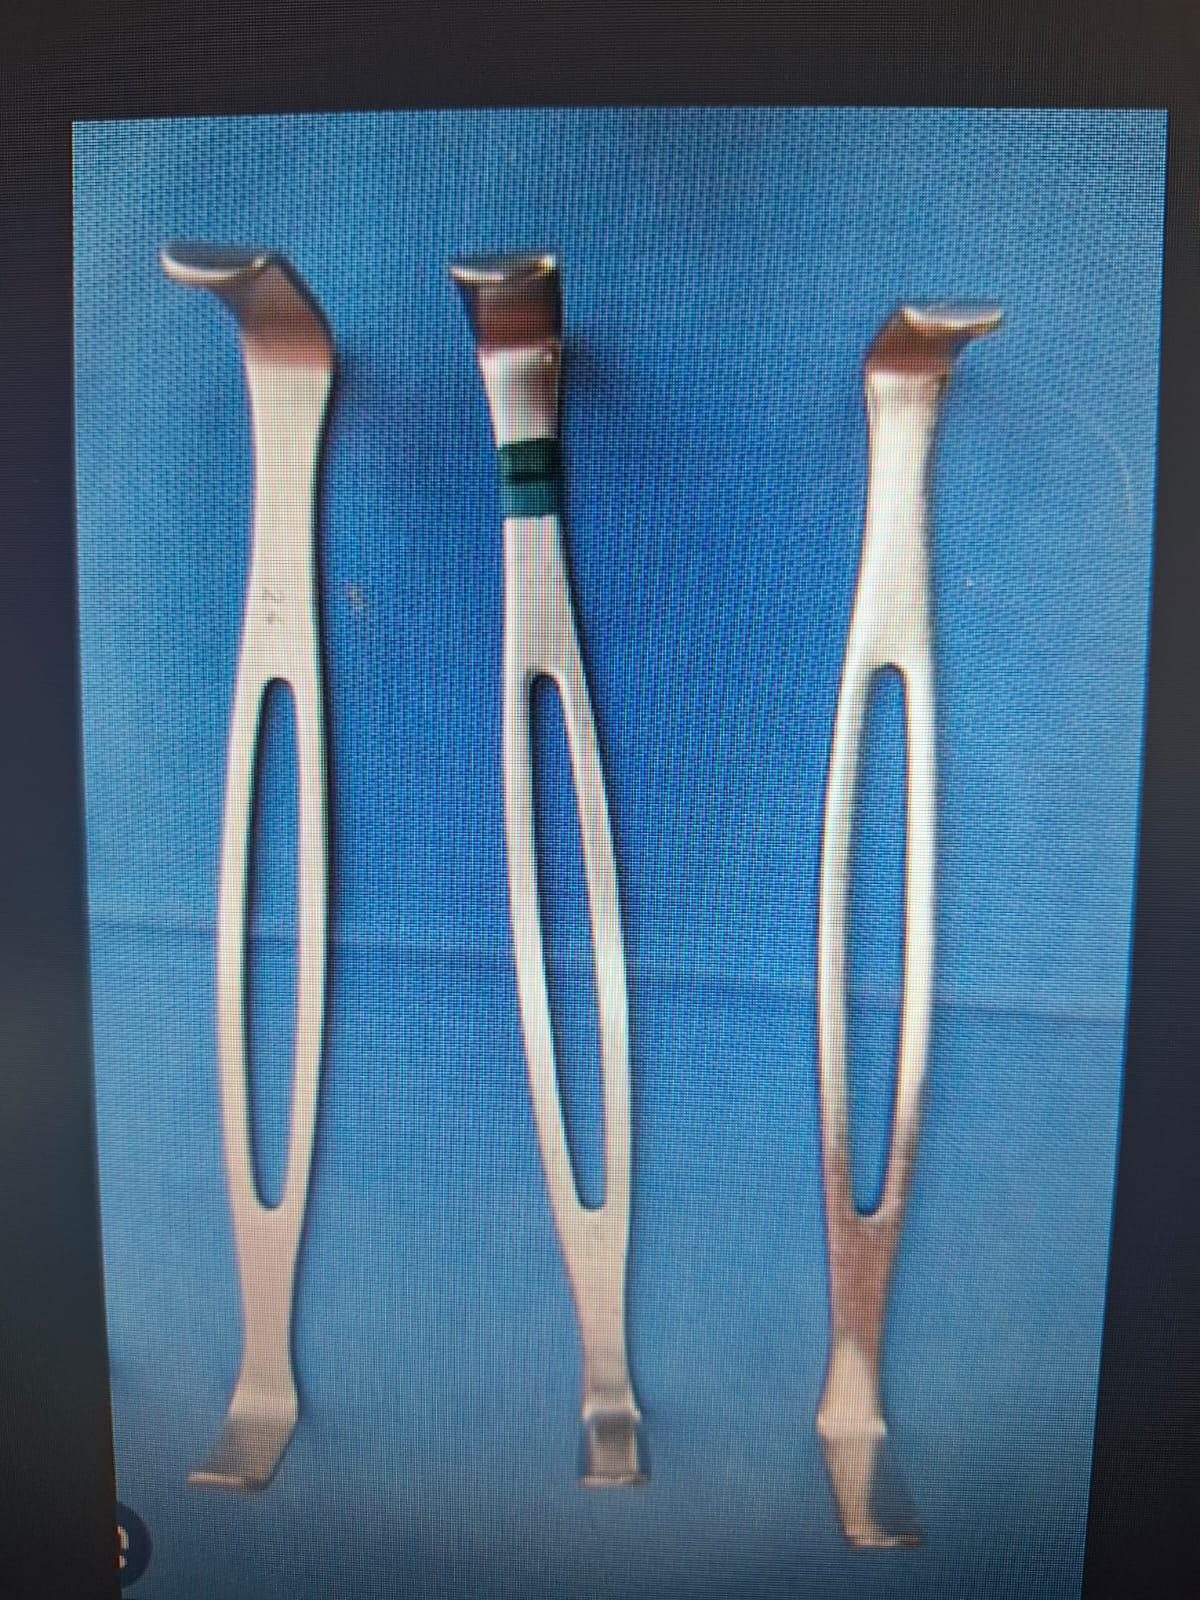Army Navy Retractor: (130, 210, 405, 1513), (422, 236, 700, 1516), (783, 262, 1000, 1557)
